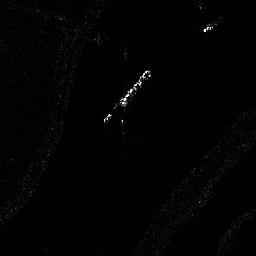ship: (119, 68, 153, 107)
